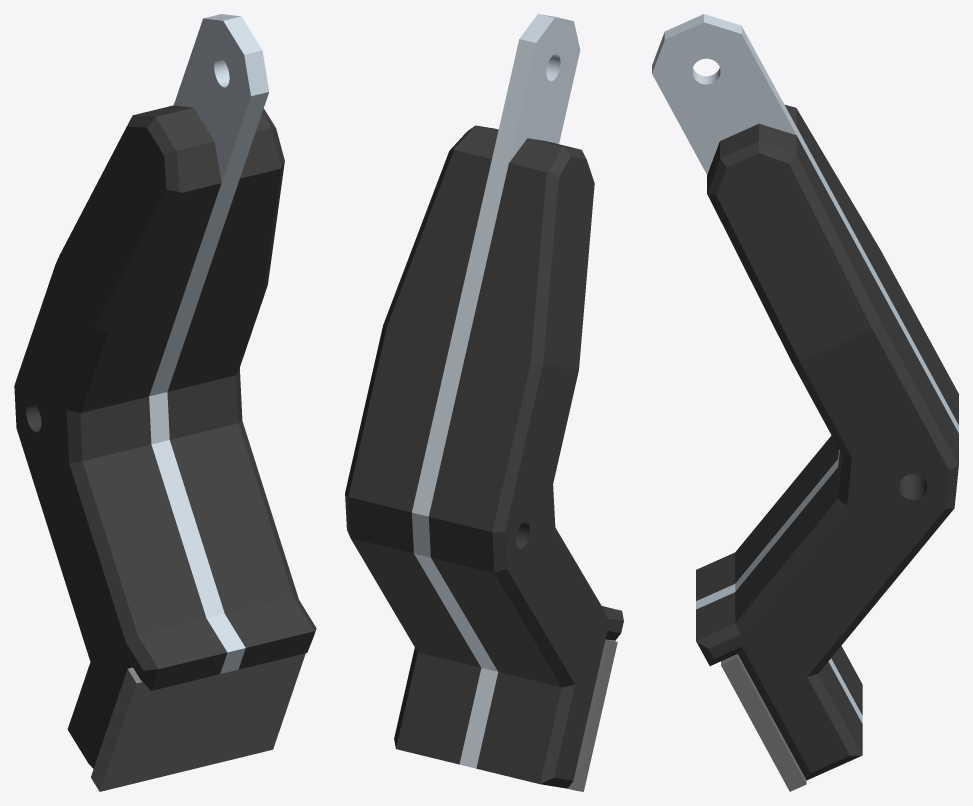
The model's file is Top Finger.glb.
3 views of the same model, side by side, from view 1: azimuth 30°, elevation 25°; view 2: azimuth 150°, elevation 25°; view 3: azimuth 270°, elevation 25° (orthographic). The views are drawn at different scales.
Visible parts, largest first — view 1: Top Finger; view 2: Top Finger; view 3: Top Finger.
Part boxes in pixels (bbox=[...]): Top Finger: bbox=[14, 14, 316, 791]; Top Finger: bbox=[345, 14, 623, 791]; Top Finger: bbox=[652, 14, 958, 791].
Bounding box in the file's own units: 0.03 × 0.13 × 0.0492.
